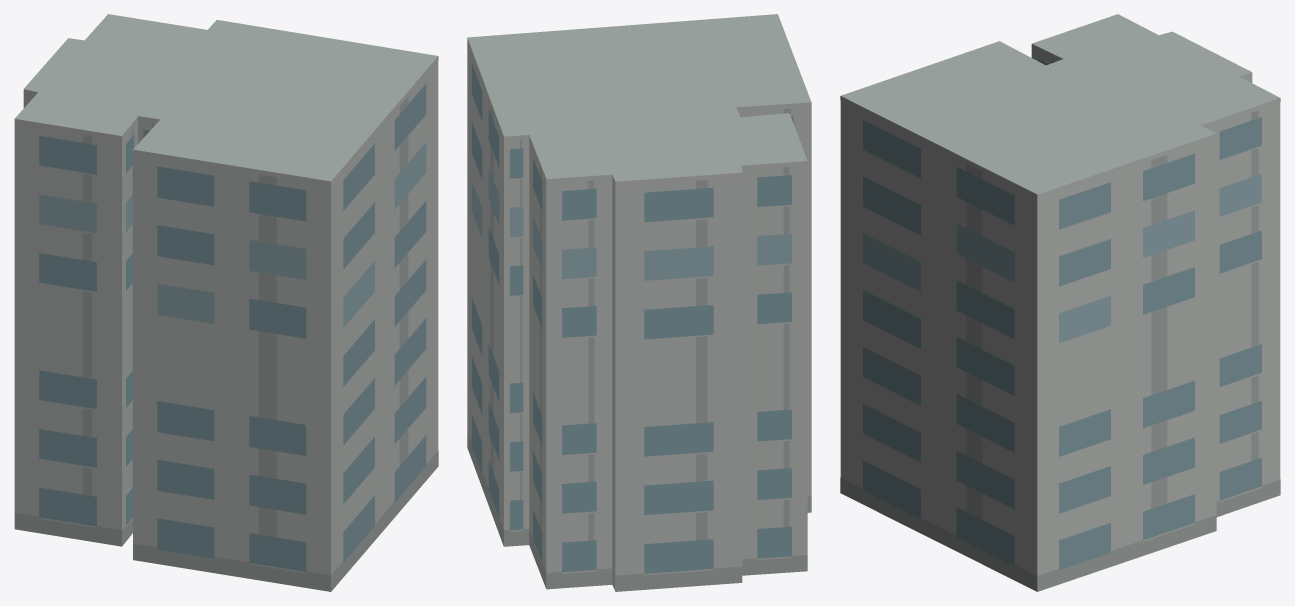
File: survey-upis-32835667.glb
3 renders of one model, left to right at view 1: azimuth 30°, elevation 25°; view 2: azimuth 150°, elevation 25°; view 3: azimuth 270°, elevation 25°, orthographic. The views are drawn at different scales.
Parts seen in each view (by area): view 1: survey-upis-32835667.tmp; view 2: survey-upis-32835667.tmp; view 3: survey-upis-32835667.tmp.
Part boxes in pixels (box(x1,y1,x2,y2)): survey-upis-32835667.tmp: box(14, 14, 438, 591); survey-upis-32835667.tmp: box(467, 14, 811, 591); survey-upis-32835667.tmp: box(840, 14, 1280, 591).
Bounding box in the file's own units: 20.67 × 21.2 × 21.28.
